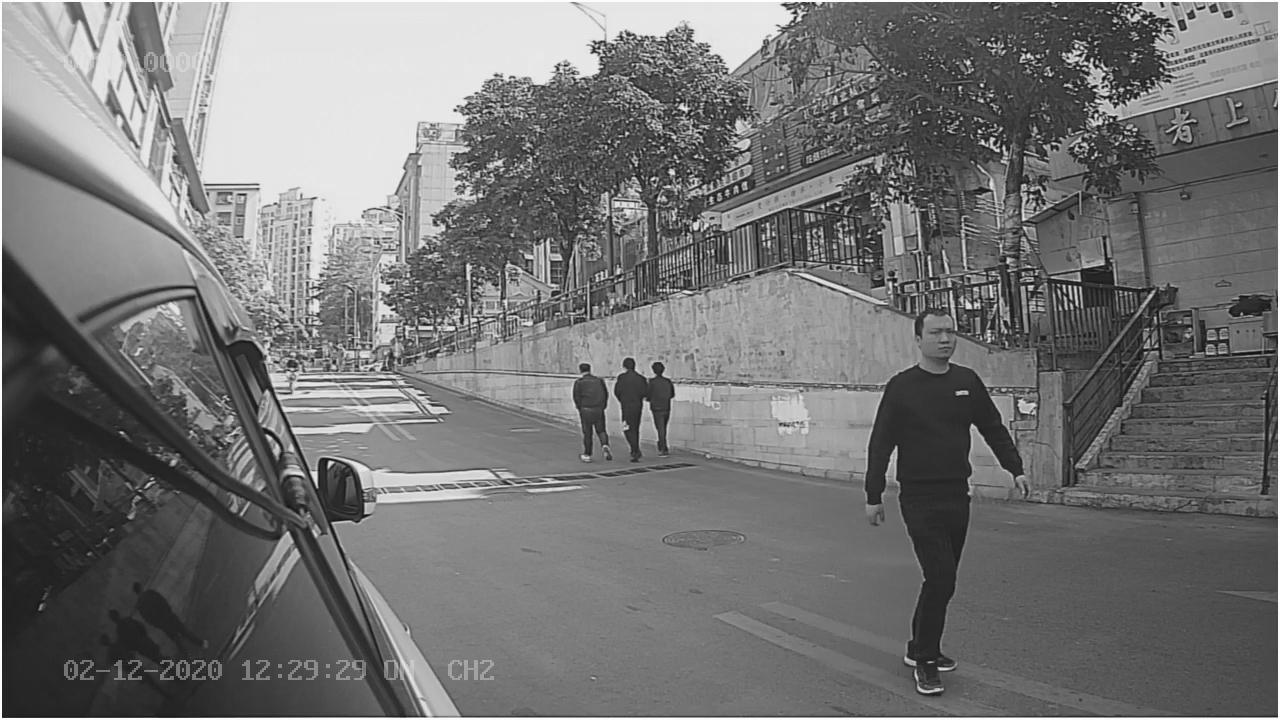person: (865, 306, 1033, 694)
